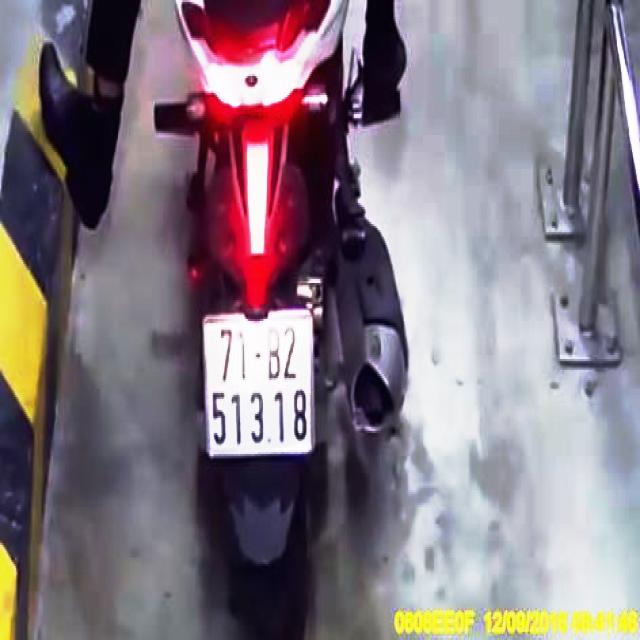license_plate: (204, 313, 316, 458)
